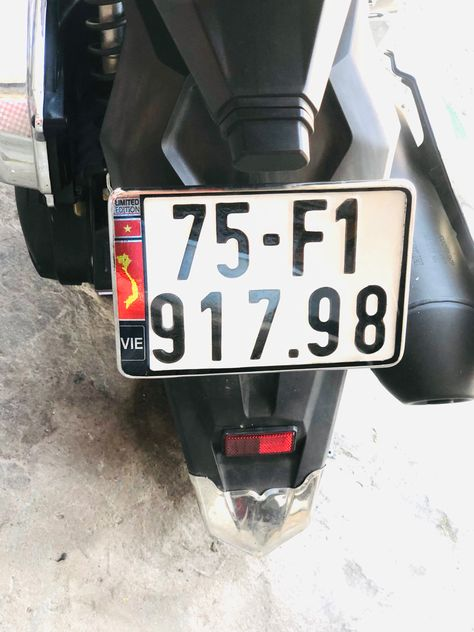number-plate: (141, 189, 402, 368)
